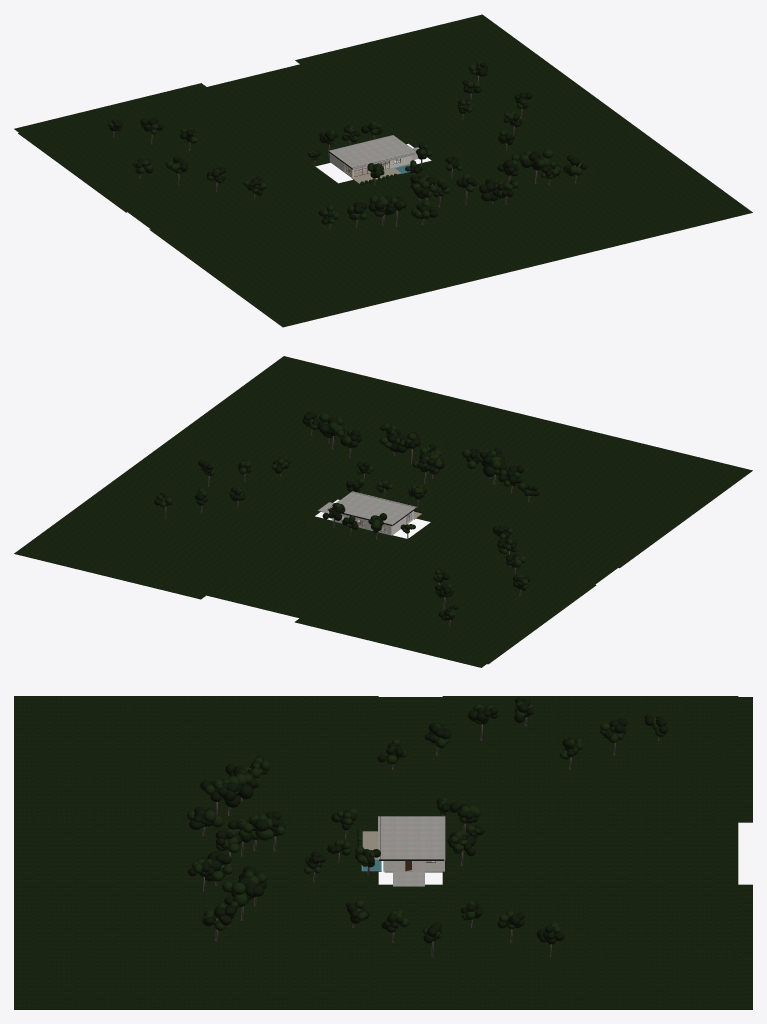
Rendered from villa.glb.
3 renders of one model, top to bottom at view 1: azimuth 30°, elevation 25°; view 2: azimuth 150°, elevation 25°; view 3: azimuth 270°, elevation 25°, orthographic. The views are drawn at different scales.
Parts seen in each view (by area): view 1: lawn, lawn_n, lawn_w, lawn_e, roof_slab, tree_31; view 2: lawn, lawn_n, lawn_e, lawn_w, roof_slab; view 3: lawn, lawn_n, lawn_w, lawn_e, roof_slab, tree_31, tree_22, tree_24, tree_33, tree_28, tree_6, tree_27.
Part boxes in pixels (bbox=[...]): lawn: bbox=[149, 115, 736, 327]; lawn_n: bbox=[18, 19, 593, 212]; lawn_w: bbox=[14, 83, 407, 322]; lawn_e: bbox=[295, 14, 752, 257]; roof_slab: bbox=[328, 135, 416, 169]; tree_31: bbox=[519, 149, 553, 183]; lawn: bbox=[152, 356, 752, 568]; lawn_n: bbox=[21, 471, 596, 664]; lawn_e: bbox=[14, 356, 469, 599]; lawn_w: bbox=[295, 424, 750, 667]; roof_slab: bbox=[328, 491, 417, 525]; lawn: bbox=[14, 696, 378, 1008]; lawn_n: bbox=[442, 696, 738, 1008]; lawn_w: bbox=[14, 697, 752, 822]; lawn_e: bbox=[14, 884, 752, 1009]; roof_slab: bbox=[378, 816, 445, 860]; tree_31: bbox=[222, 876, 264, 920]; tree_22: bbox=[221, 773, 253, 815]; tree_24: bbox=[186, 807, 223, 836]; tree_33: bbox=[202, 907, 235, 941]; tree_28: bbox=[199, 851, 232, 885]; tree_6: bbox=[447, 831, 475, 866]; tree_27: bbox=[215, 829, 241, 866].
Bounding box in the file's own units: 150 × 10.22 × 150.
52 materials, 26 textured.
